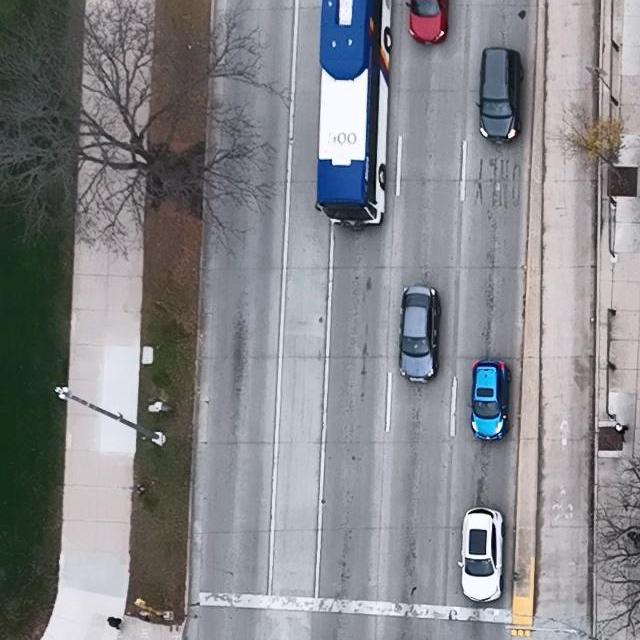car: (315, 0, 391, 232), (474, 46, 524, 144), (457, 506, 505, 602), (397, 284, 440, 384), (467, 359, 512, 444), (404, 0, 449, 46)
